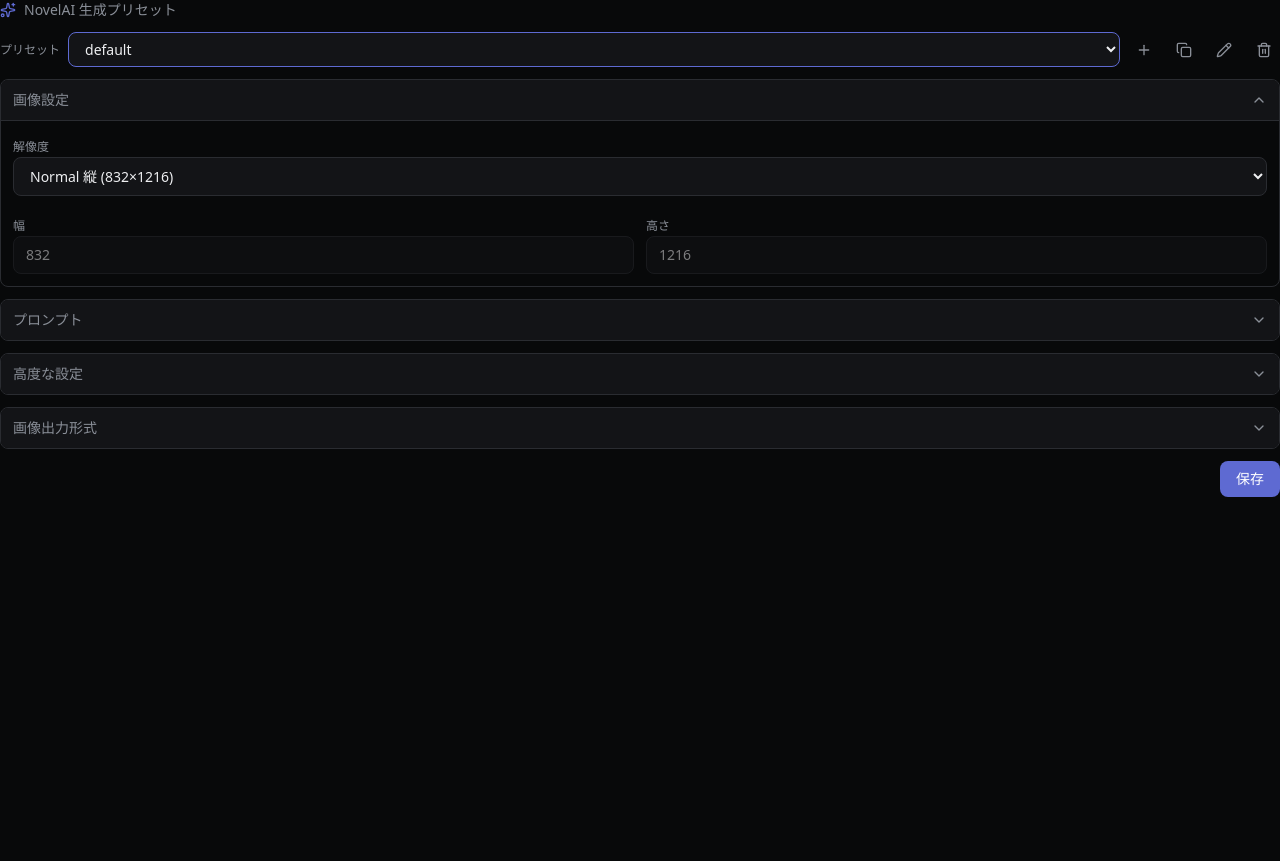
Test: NovelAIPresetSection のモデルごとの値 › 送る品質タグの文は推奨の文から始まり、編集と「推奨の文へ戻す」ができる
Expected: the button "モデル" is not shown
Click the button "プロンプト": (48, 320) [1,300,1279,340]
(page scrolled)
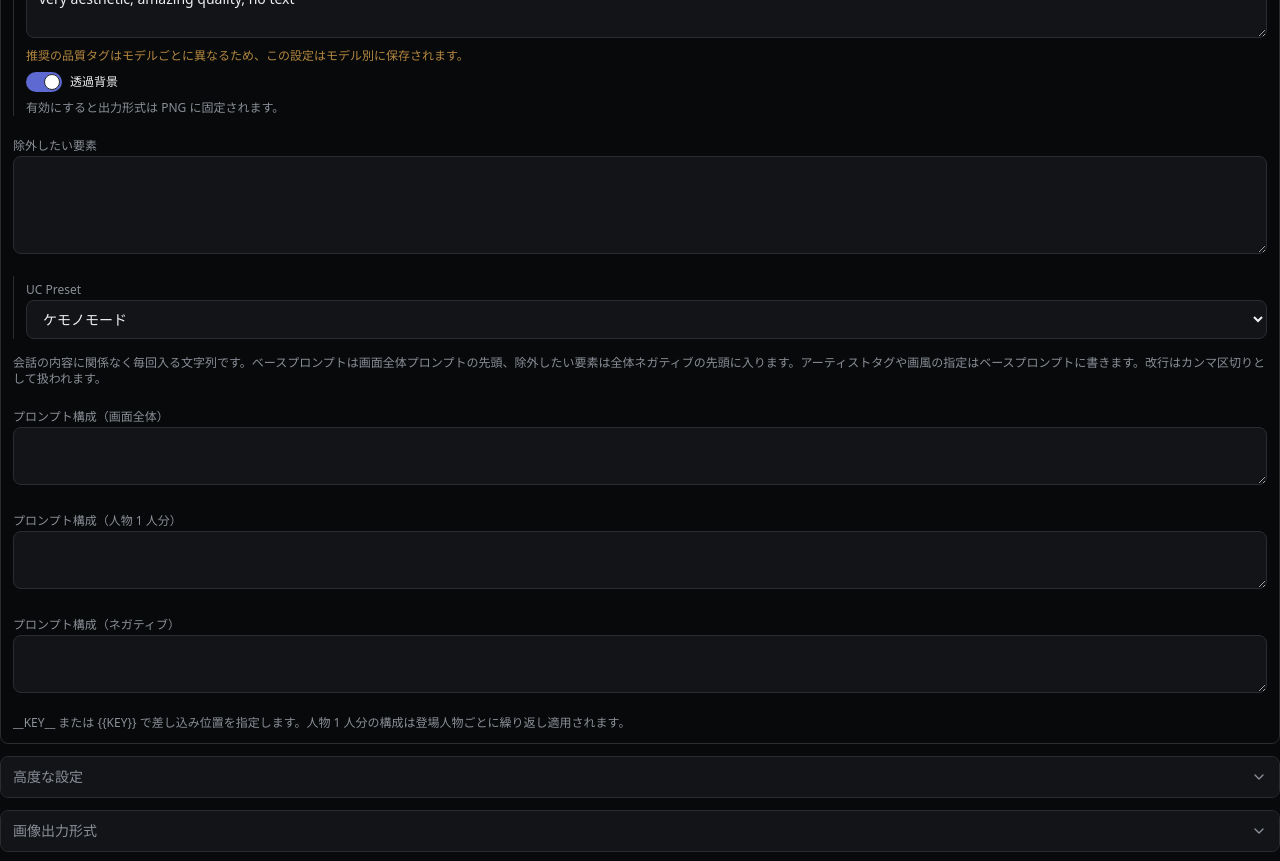
Click the button "画像出力形式": (55, 830) [1,811,1279,851]
(page scrolled)
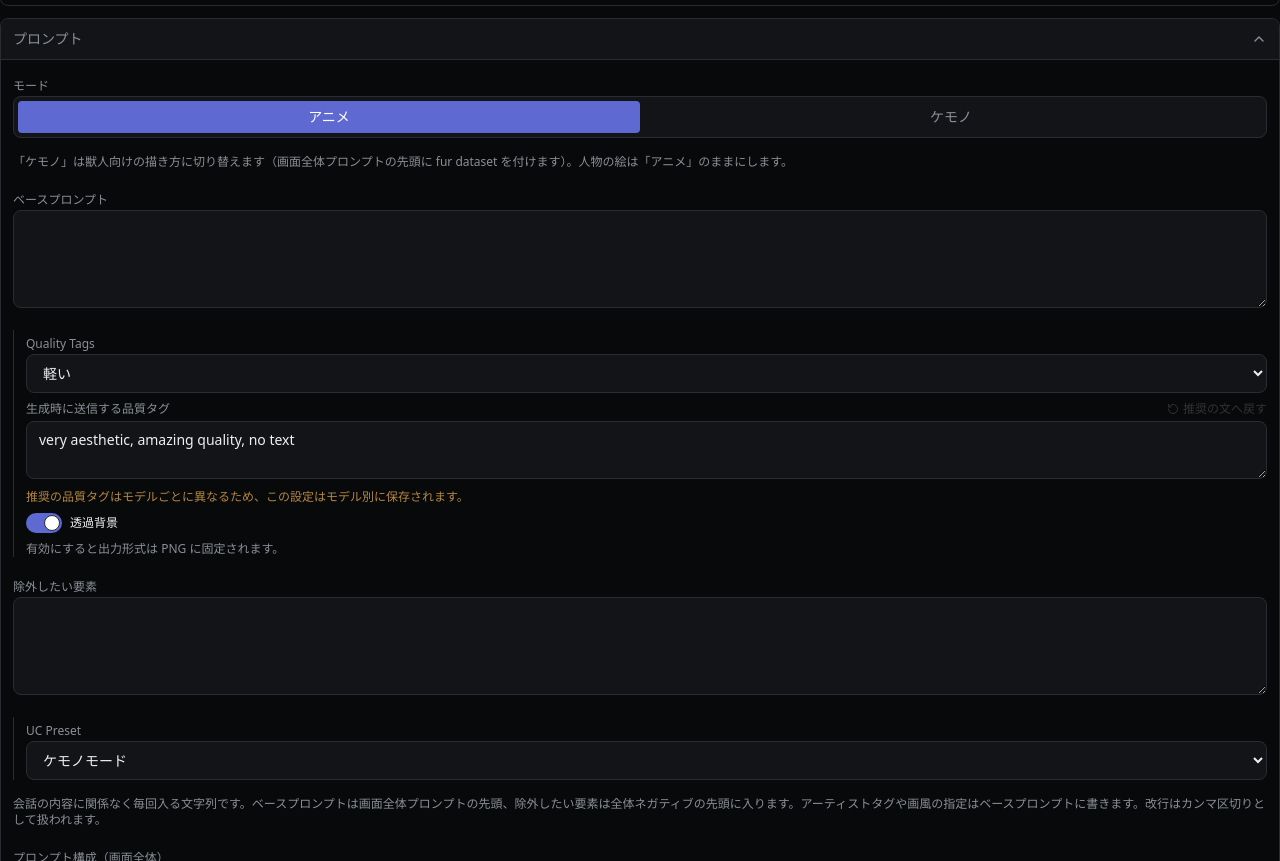
Expected: the text box named "生成時に送信する品質タグ" holds "very aesthetic, amazing quality, no text"
Expected: the text "推奨の品質タグはモデルごとに異なるため、この設定はモデル別に保存されます。" is shown, [26,488,469,505]
Replace the text in the text box named "生成時に送信する品質タグ" with "very aesthetic, amazing quality": (646, 450) [26,421,1267,479]
Select "標準" in the dropdown labelled "Quality Tags": (646, 374) [26,354,1267,393]
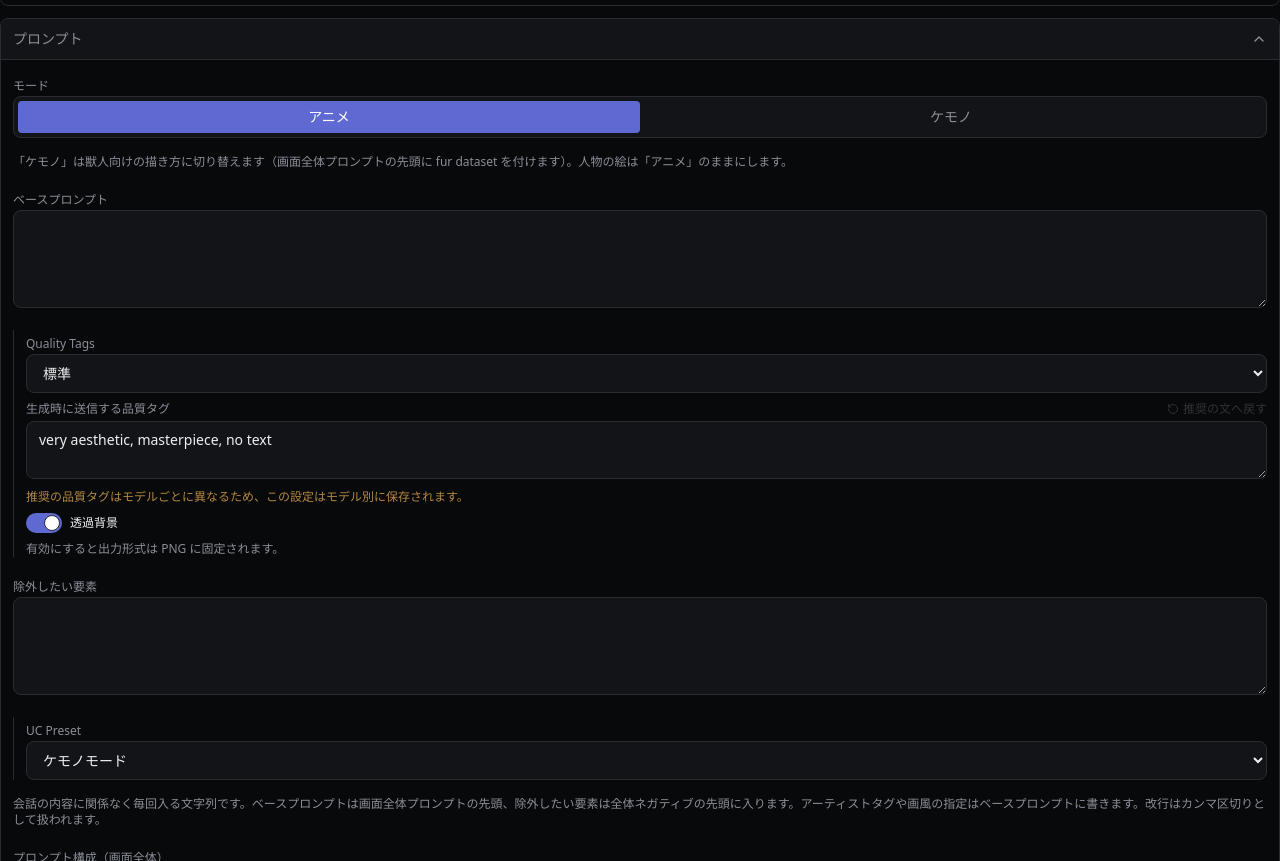
Expected: the text box named "生成時に送信する品質タグ" holds "very aesthetic, masterpiece, no text", [26,421,1267,479]
Select "軽い" in the dropdown labelled "Quality Tags": (646, 374) [26,354,1267,393]
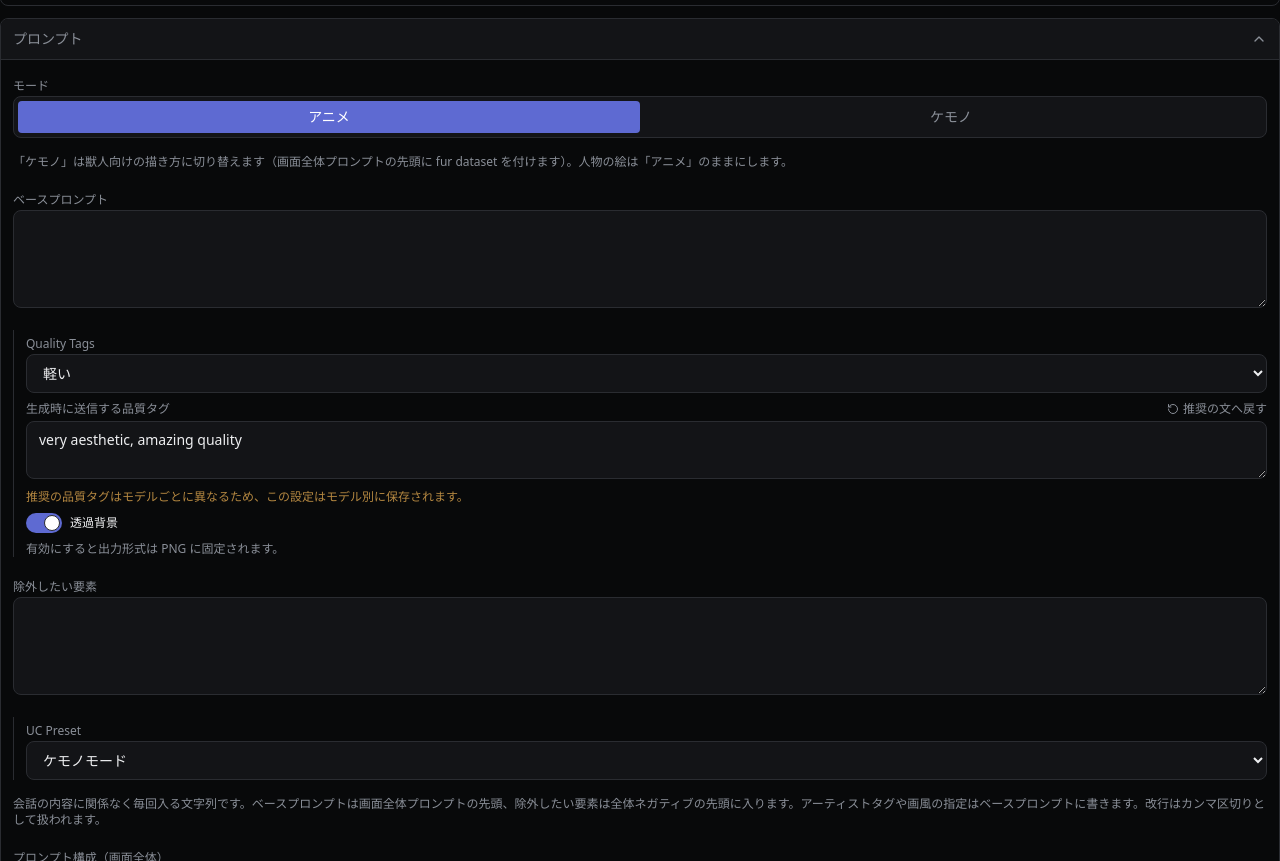
Click the button "推奨の文へ戻す": (1217, 409) [1167,401,1267,417]
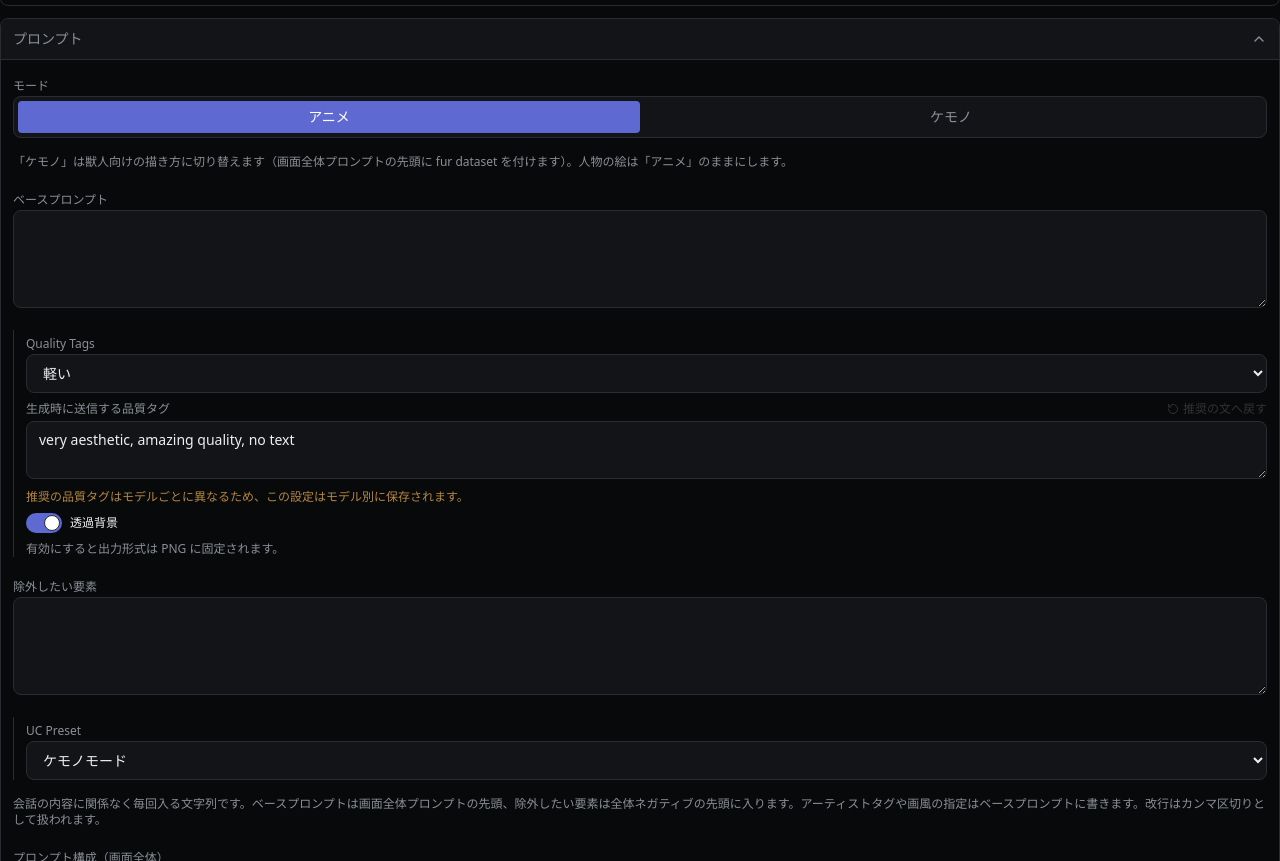
Expected: the text box named "生成時に送信する品質タグ" holds "very aesthetic, amazing quality, no text", [26,421,1267,479]
Select "指定なし" in the dropdown labelled "Quality Tags": (646, 374) [26,354,1267,393]
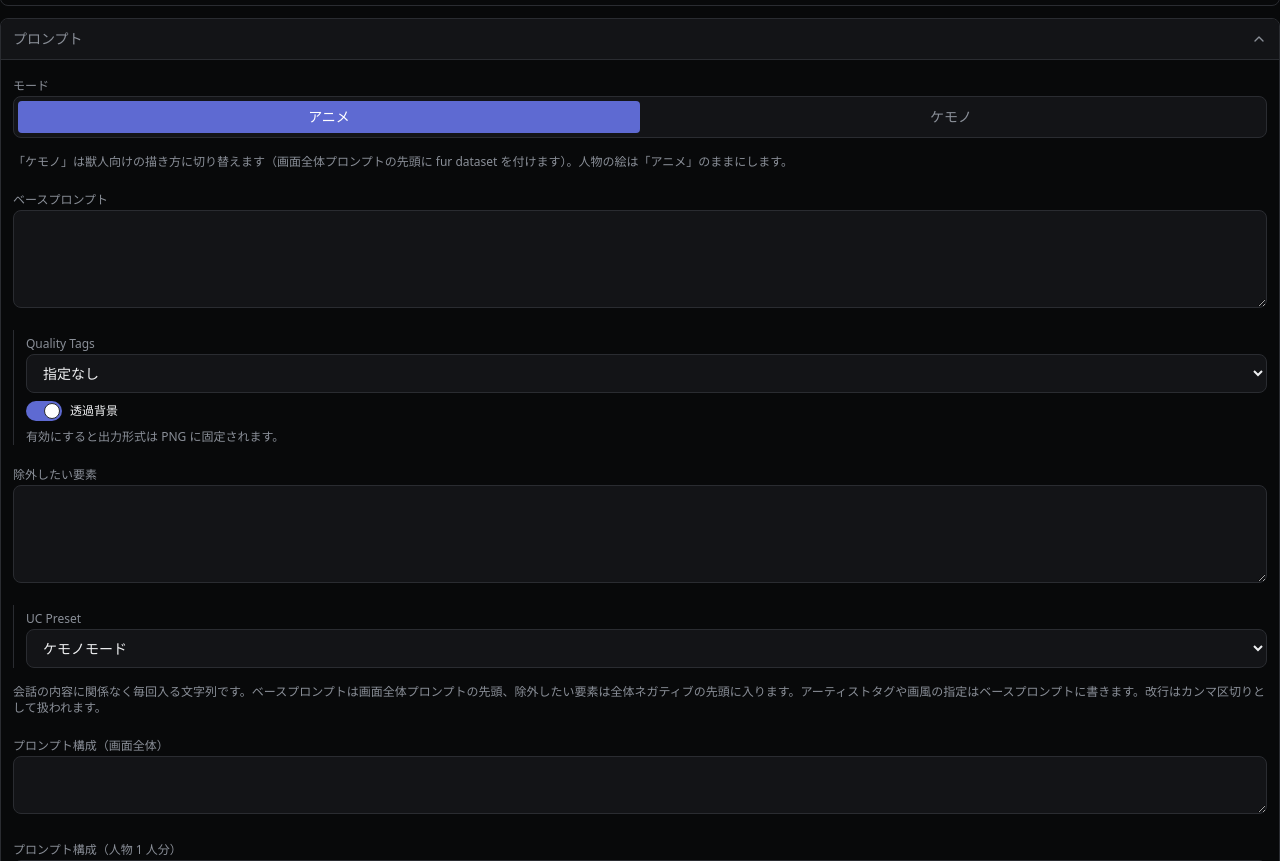
Expected: the text labelled "生成時に送信する品質タグ" is gone
